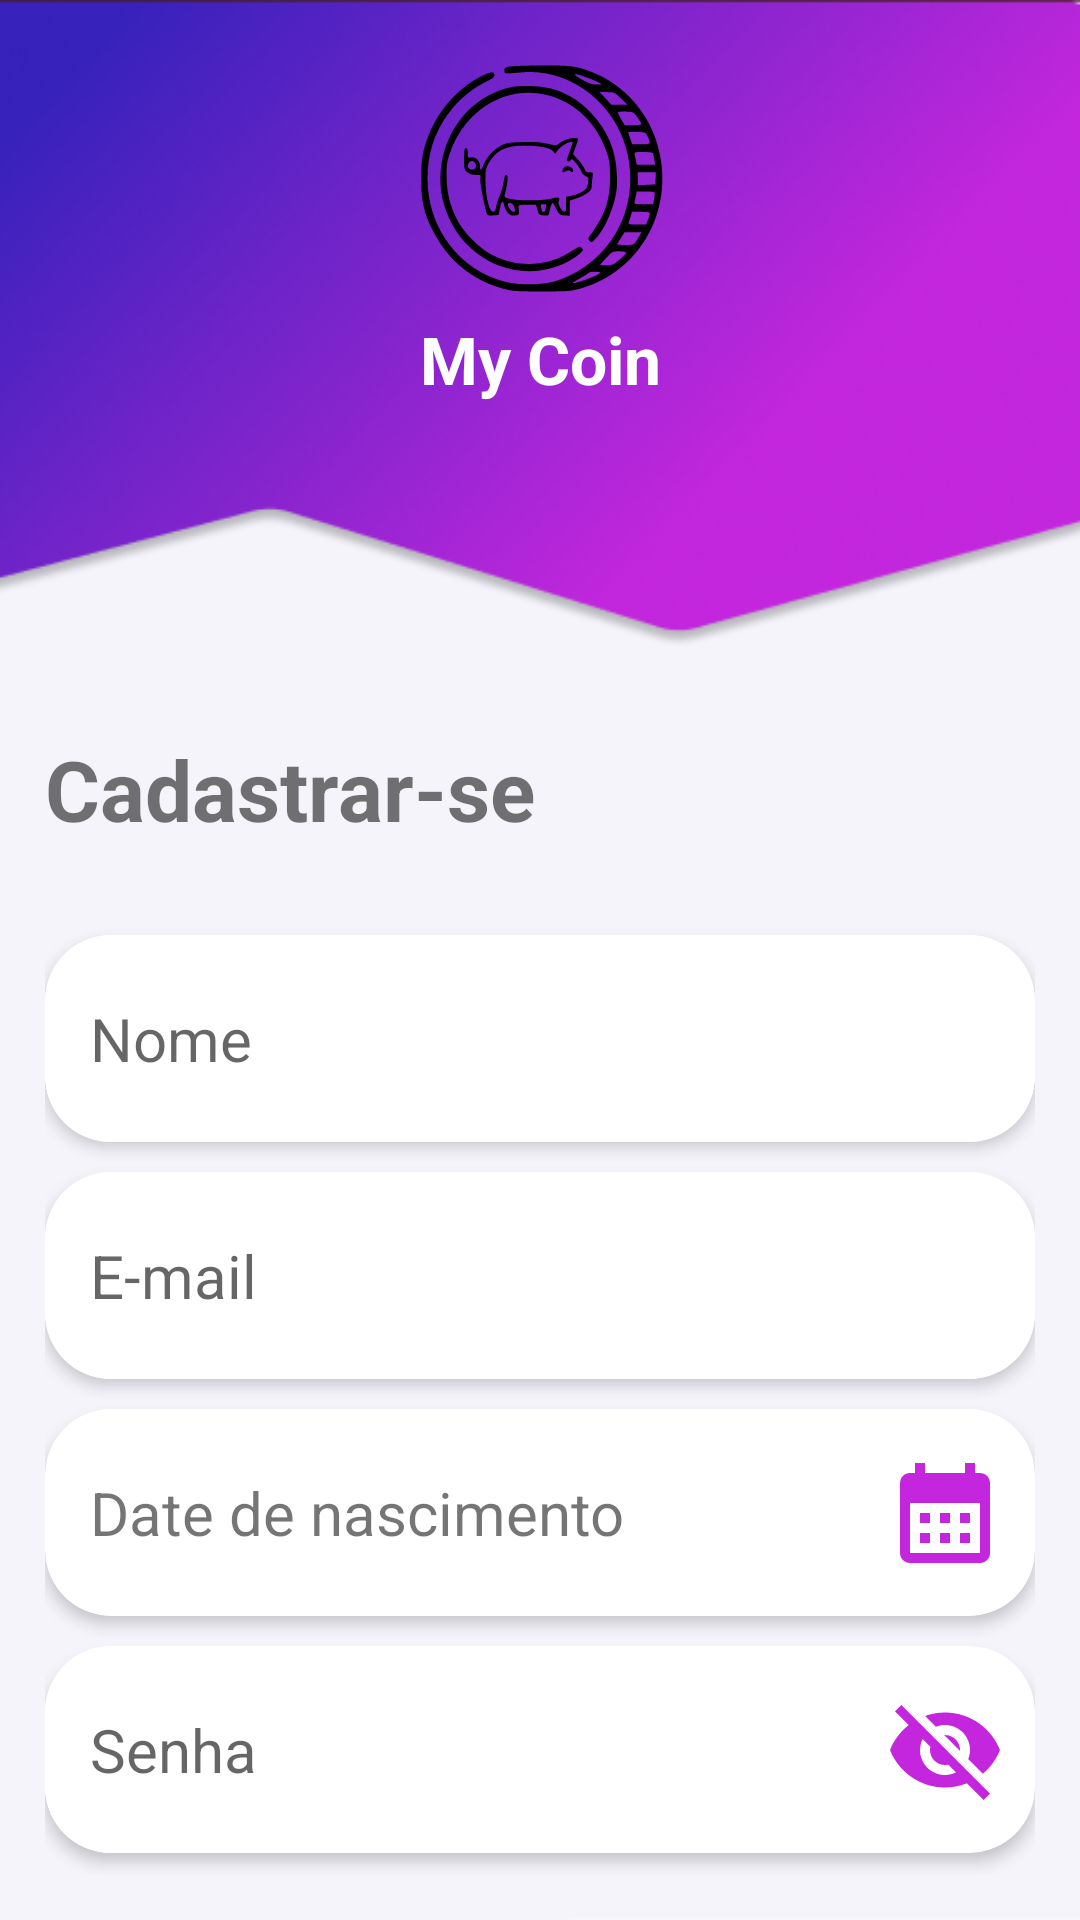

Named icons in this screenshot (1080 × 1920) and their centers, [x,y]:
calendar: [945,1513]
eye slash: [945,1752]
